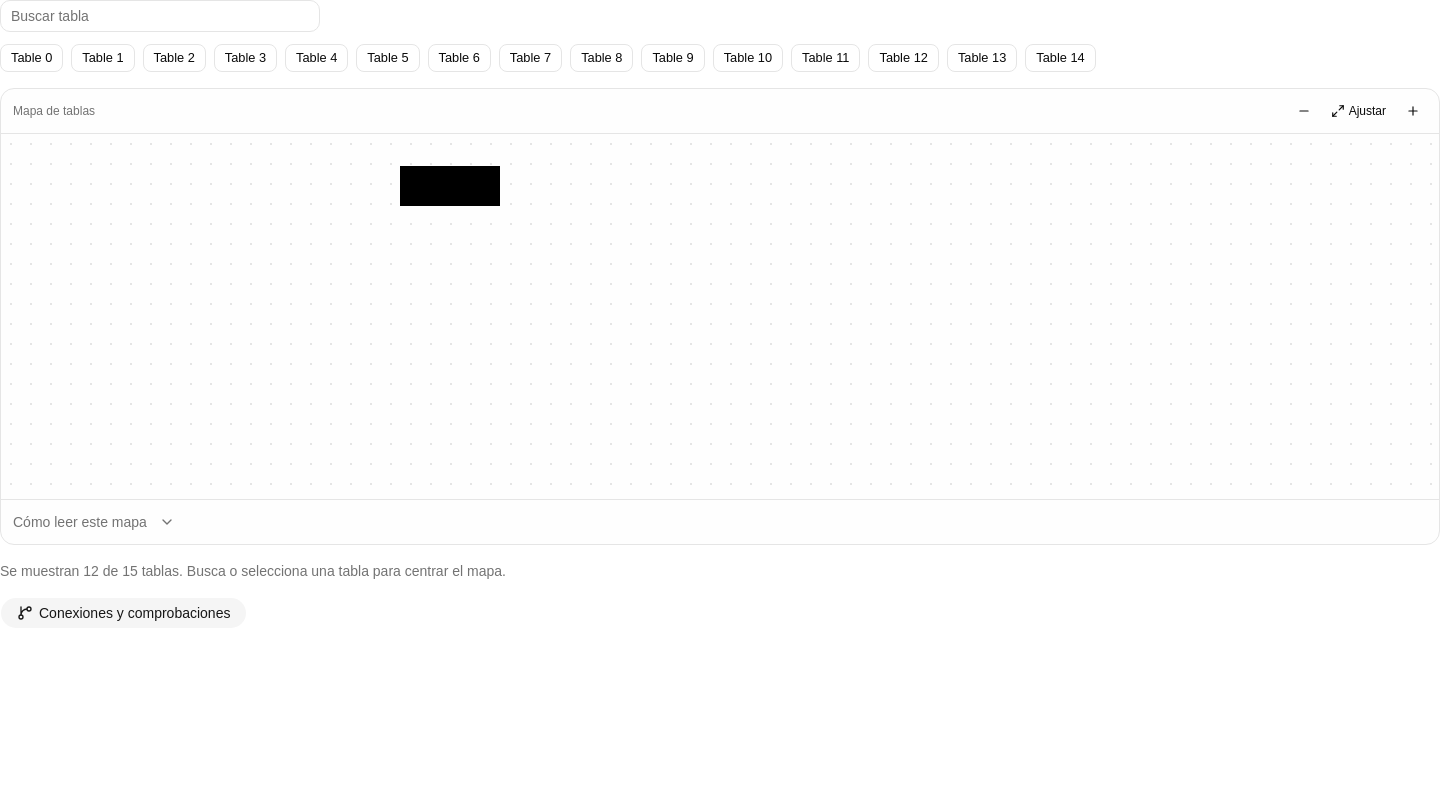
versioned ER data model › retains saved calculations in read-only history while hiding creation actions
This screenshot has width=1440, height=810.
Click the button "Conexiones y comprobaciones". click: (124, 612)
box: [0, 596, 248, 628]
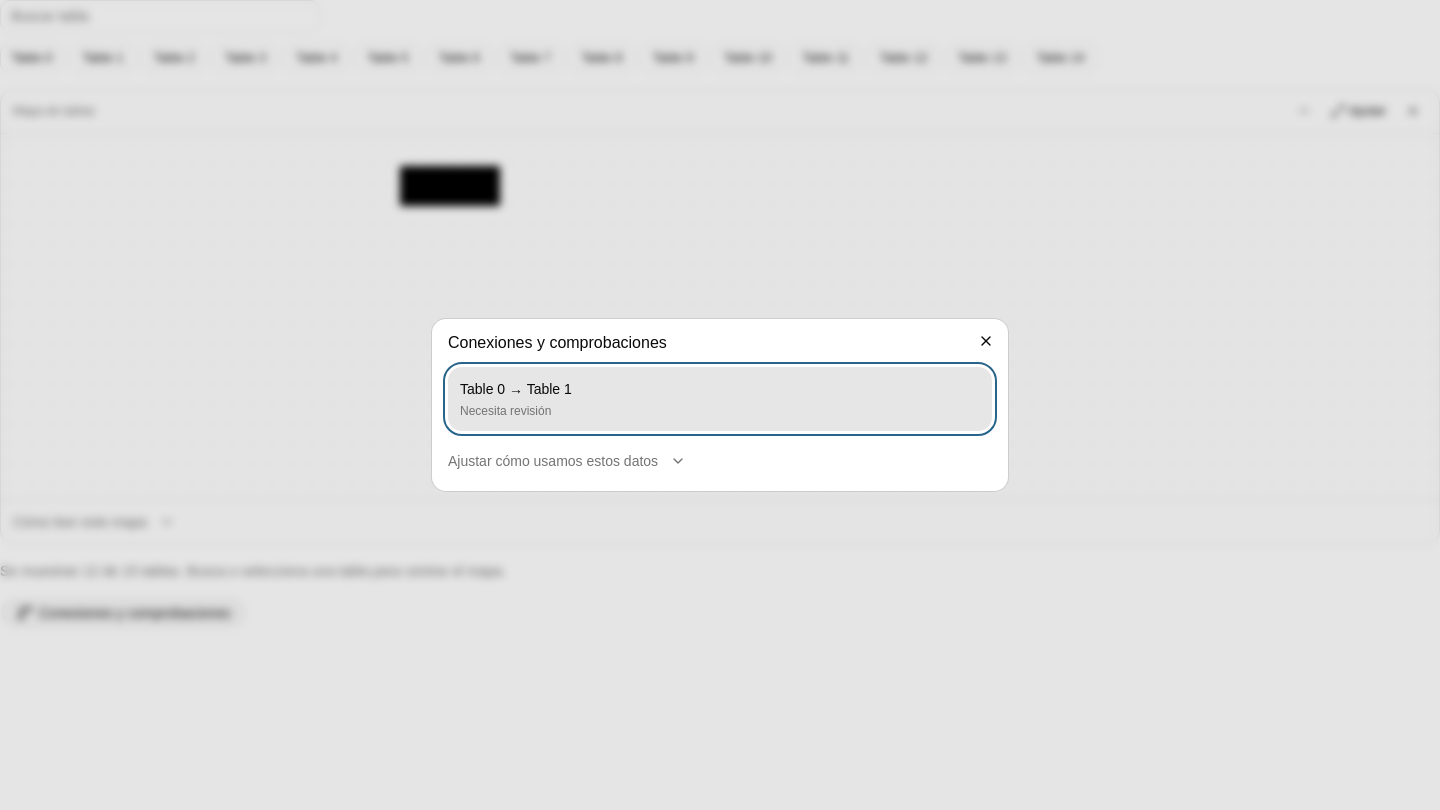
Click the button "Ajustar cómo usamos estos datos". click: (567, 461)
box: [448, 447, 686, 475]
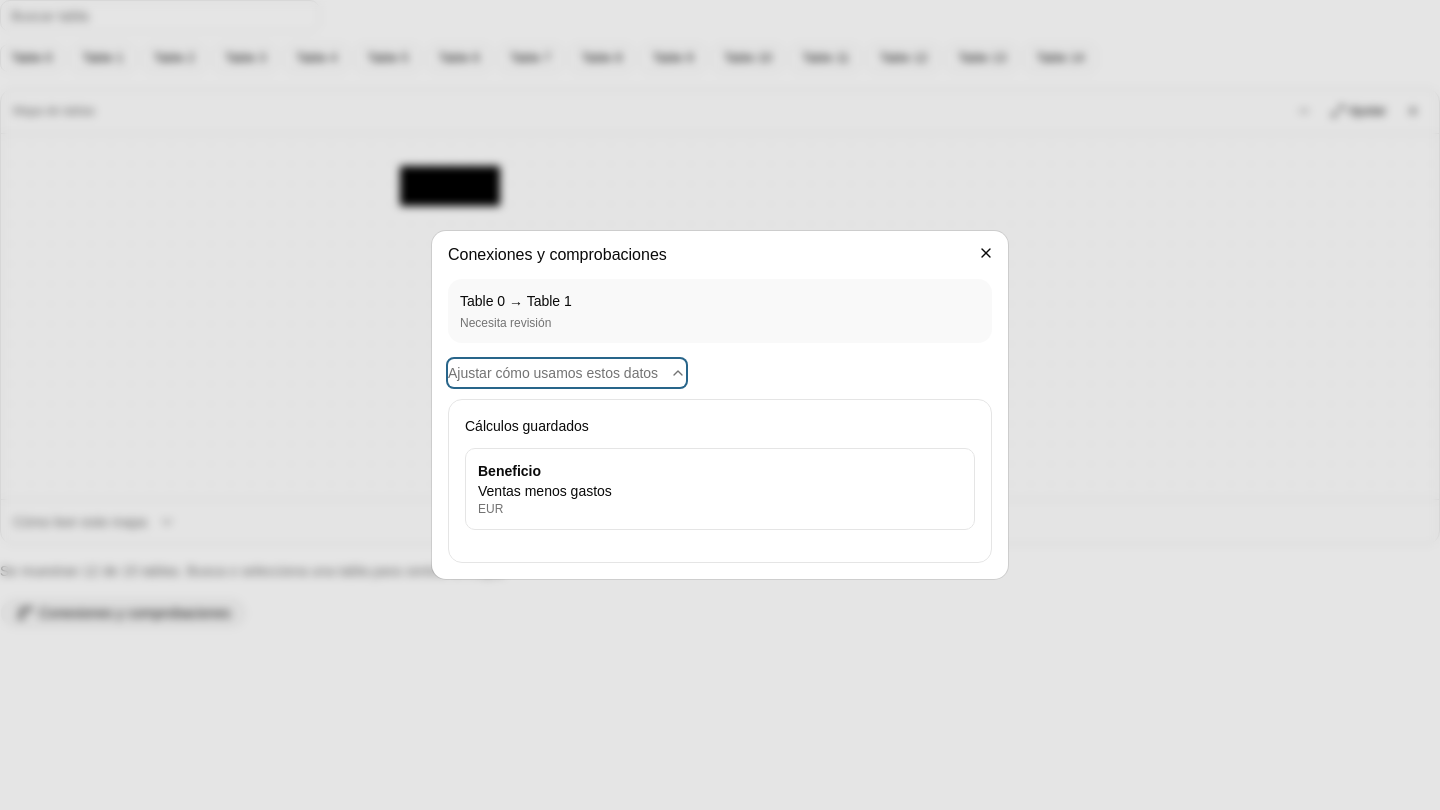
Result: the text "Ventas menos gastos" is shown at [478, 483, 612, 499]
